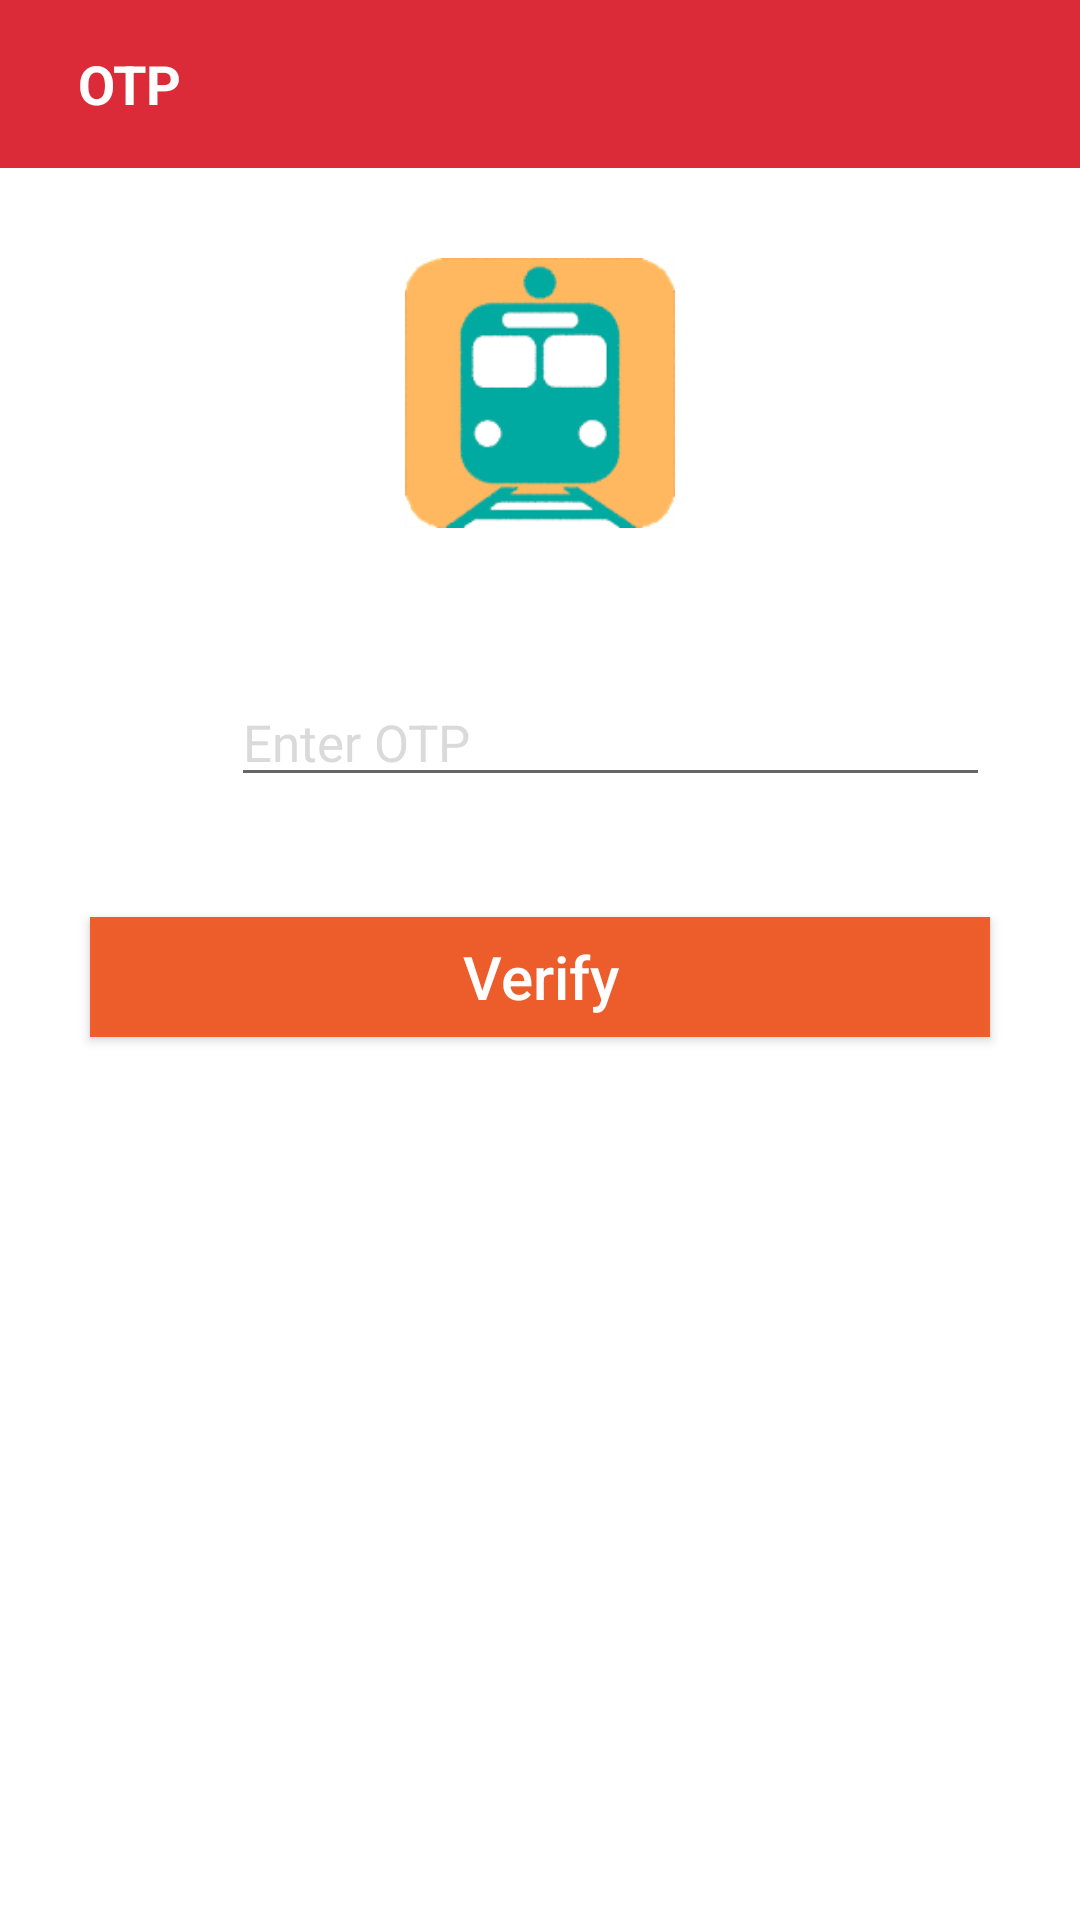

Icons on this 1080 x 1920 Android screen, each with its box as Rect(x1, y1, x2, y2):
railquarters: Rect(405, 258, 675, 528)
